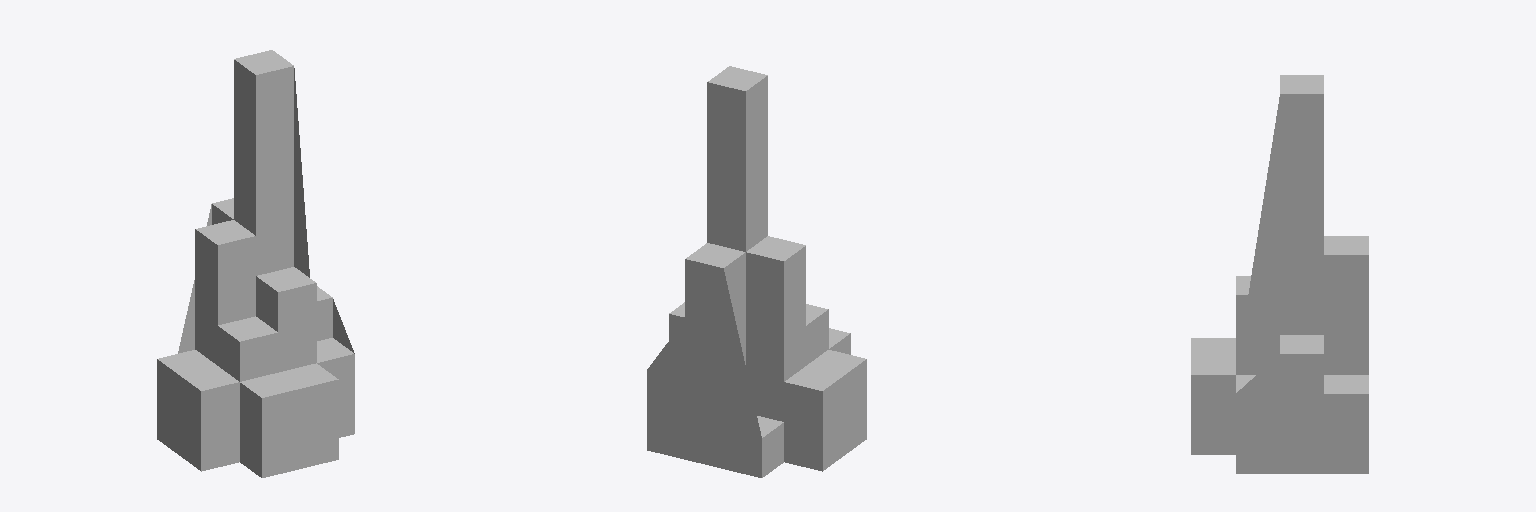
File: Endless light Stalagmite models.obj
The picture shows the model from 3 angles: view 1: azimuth 30°, elevation 25°; view 2: azimuth 150°, elevation 25°; view 3: azimuth 270°, elevation 25°; orthographic projection.
Parts seen in each view (by area): view 1: Stalagmite; view 2: Stalagmite; view 3: Stalagmite.
Part boxes in pixels (x1,y1,x2,y2): Stalagmite: (157, 50, 354, 477); Stalagmite: (647, 66, 866, 477); Stalagmite: (1191, 75, 1368, 473).
Size of the model in its own units: 1.6 by 3.6 by 1.6.